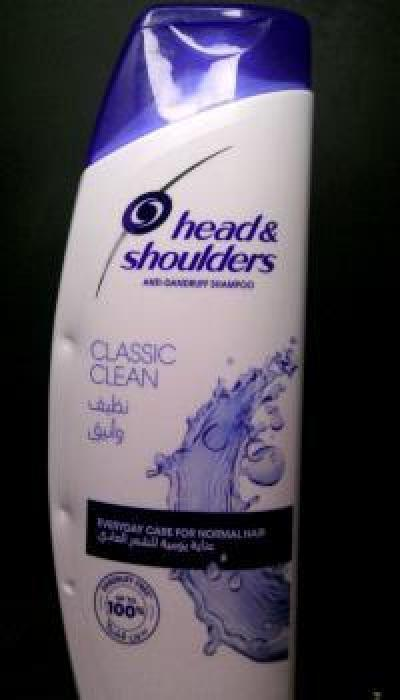dent_unacc: (53, 322, 95, 378), (46, 489, 84, 531), (54, 579, 90, 613)
